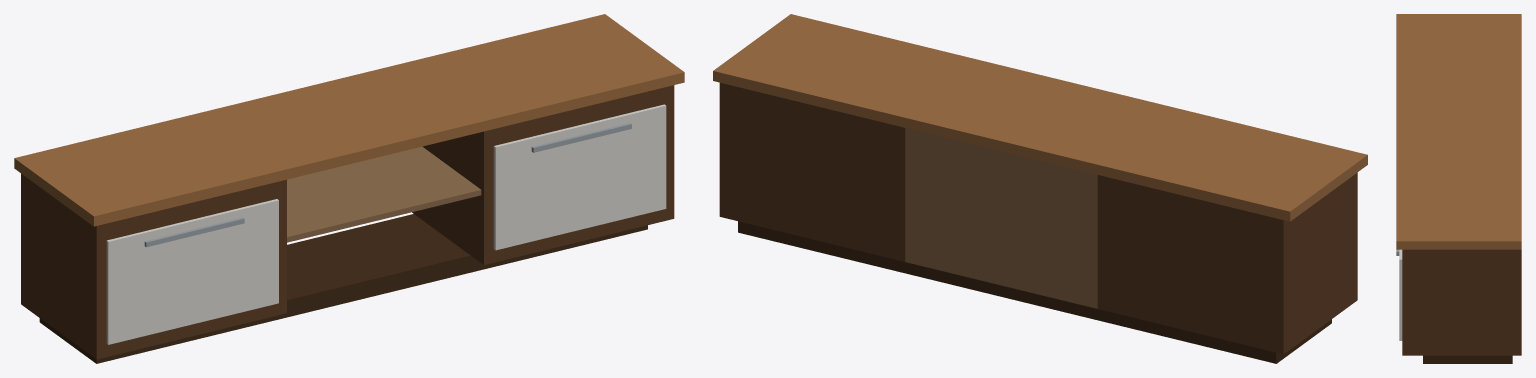
The model's file is tvstand.glb.
3 views of the same model, side by side, from view 1: azimuth 30°, elevation 25°; view 2: azimuth 150°, elevation 25°; view 3: azimuth 270°, elevation 25° (orthographic). The views are drawn at different scales.
Visible parts, largest first — view 1: material-3-top, material-2-drawer, material-0-body, material-1-base, material-5-shelf, material-6-metal; view 2: material-0-body, material-3-top, material-4-interior, material-1-base; view 3: material-3-top, material-0-body, material-1-base, material-2-drawer.
Boxes of the visible parts, x1,y1,x2,y2 form: material-3-top: (14,14,684,226); material-2-drawer: (106,104,666,344); material-0-body: (21,85,674,359); material-1-base: (39,214,647,363); material-5-shelf: (287,146,481,242); material-6-metal: (144,123,631,247); material-0-body: (719,82,1357,354); material-3-top: (713,14,1367,221); material-4-interior: (905,128,1097,308); material-1-base: (738,221,1331,363); material-3-top: (1396,14,1521,249); material-0-body: (1402,249,1521,355); material-1-base: (1423,355,1512,363); material-2-drawer: (1399,249,1402,340).
Bounding box in the file's own units: 1.8 × 0.48 × 0.42.
